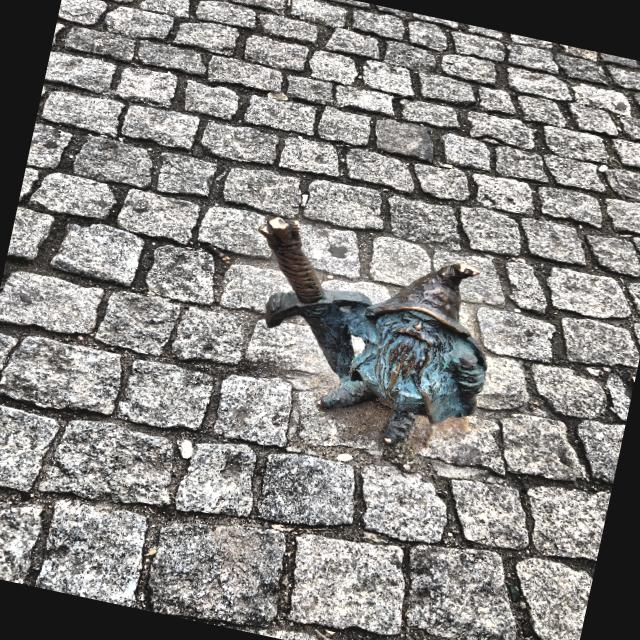Giermek_Grun-Waldek: (258, 217, 486, 444)
